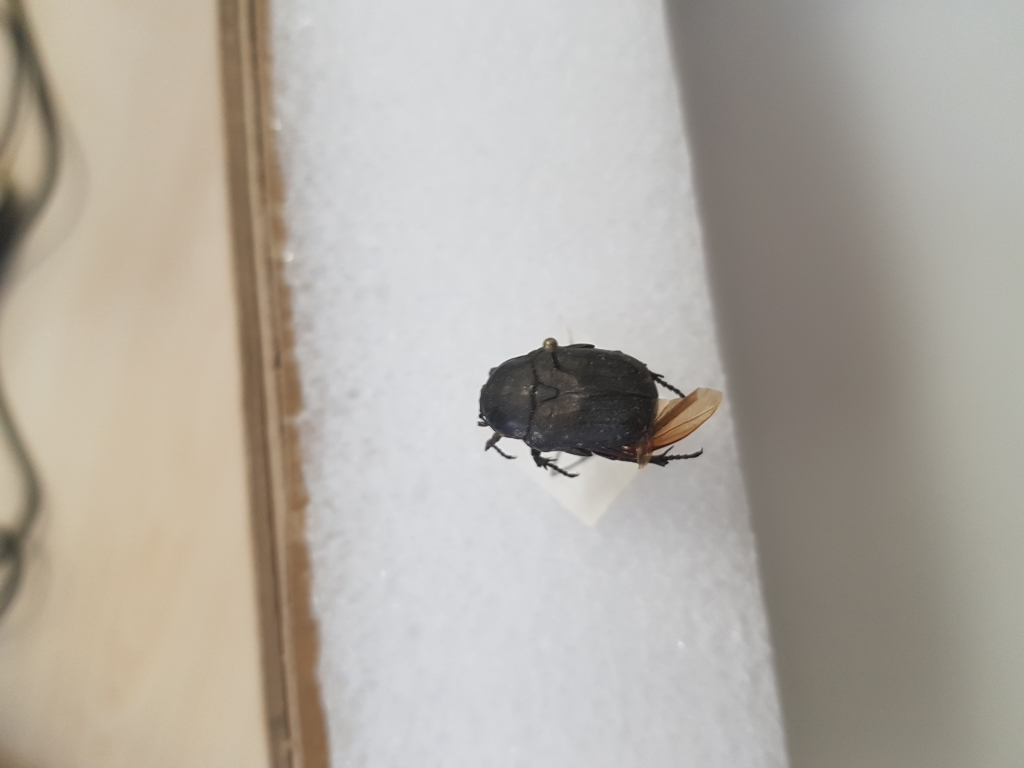Protaetia_asiatica: (469, 334, 727, 485)
